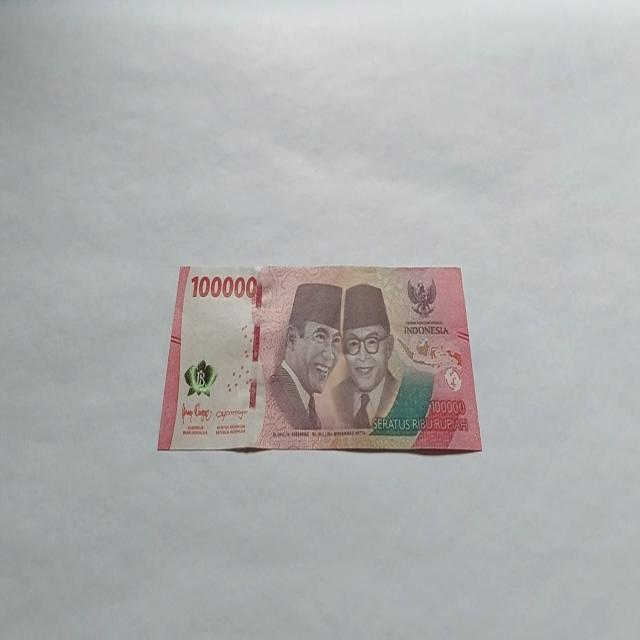seratus ribu rupiah: (156, 262, 482, 454)
